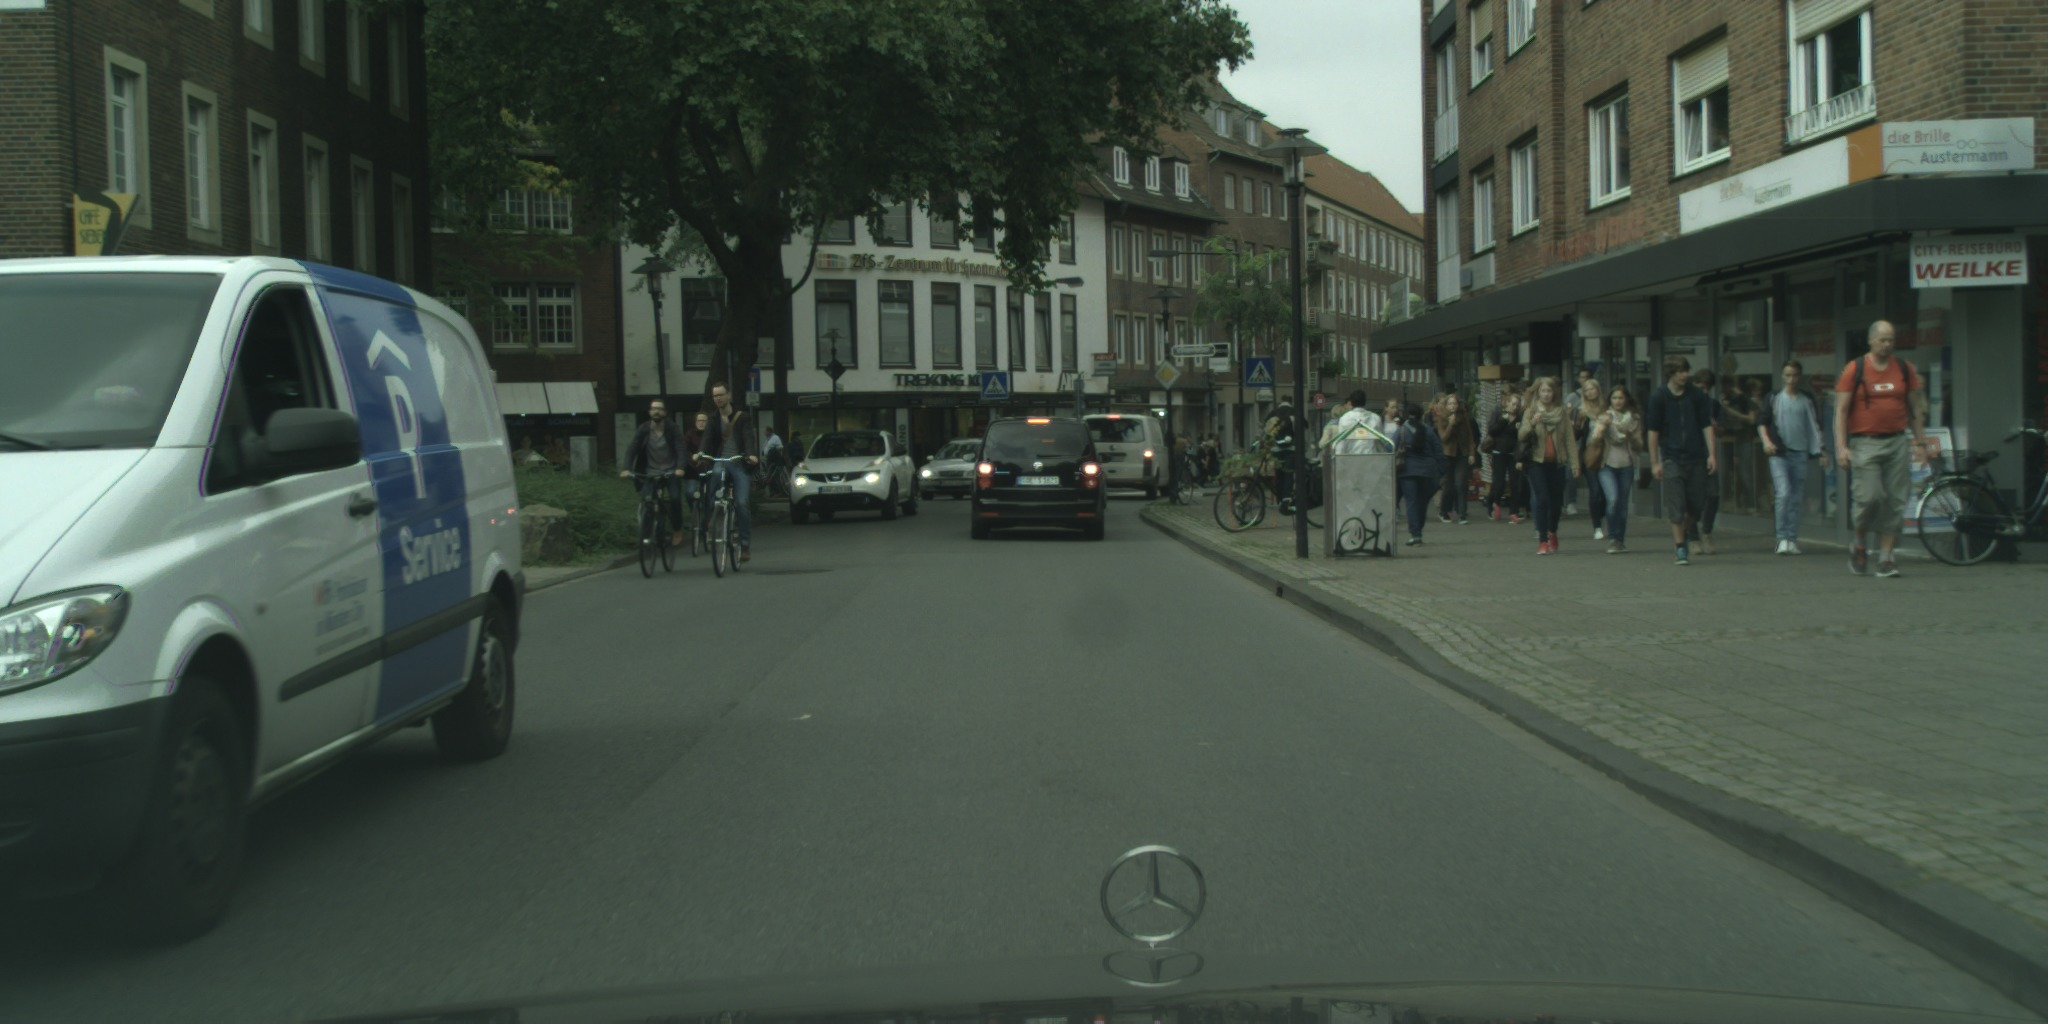bicycle: (1911, 425, 2048, 568), (1214, 438, 1333, 533), (700, 452, 752, 577), (626, 472, 680, 578), (677, 466, 718, 559)
car: (0, 255, 525, 948), (960, 416, 1115, 541), (789, 429, 920, 527), (1078, 412, 1177, 501), (916, 440, 989, 500)
person: (1831, 319, 1930, 577), (1644, 357, 1716, 566), (1754, 360, 1830, 557), (1517, 374, 1579, 555), (1581, 385, 1646, 556), (1676, 367, 1725, 557), (1391, 399, 1443, 547), (1562, 368, 1606, 519), (1476, 393, 1527, 524), (1572, 379, 1612, 541), (1487, 382, 1529, 522), (1432, 393, 1475, 525), (1264, 395, 1310, 517), (1529, 375, 1563, 524), (1443, 381, 1486, 494), (1373, 396, 1409, 525), (1419, 390, 1455, 520), (1336, 388, 1383, 453), (685, 408, 713, 513), (1318, 405, 1348, 491), (763, 424, 792, 501), (780, 431, 810, 491), (1164, 431, 1192, 490), (1340, 398, 1363, 421)
rider: (691, 379, 758, 564), (620, 398, 691, 550), (685, 408, 713, 513)
